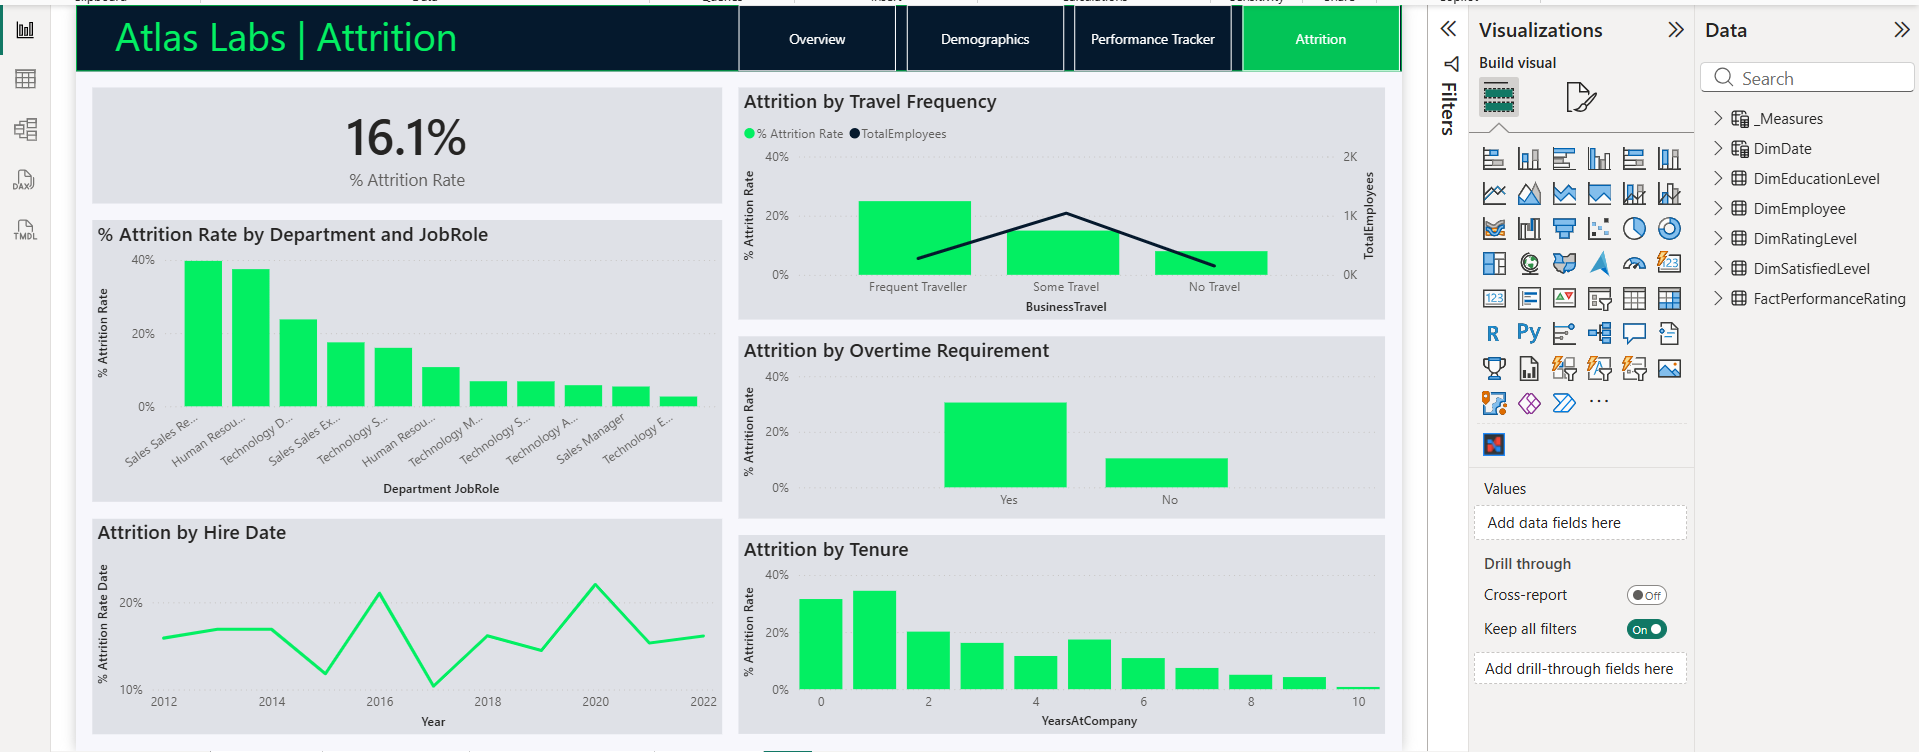

What the dashboard file says about the page in this screenshot:
{"tool":"powerbi","page":{"name":"Attrition","canvas":[1280,720],"ordinal":3},"visuals":[{"type":"card","fields":{"Values":["_Measures.% Attrition Rate"]},"box":[16,80,608,112],"z":0},{"type":"columnChart","fields":{"Category":["DimEmployee.Department","DimEmployee.JobRole"],"Y":["_Measures.% Attrition Rate"]},"box":[16,208,608,272],"z":1000},{"type":"lineChart","title":"Attrition by Hire Date","fields":{"Y":["_Measures.% Attrition Rate Date"],"Category":["DimDate.Date.Variation.Date Hierarchy.Year","DimDate.Date.Variation.Date Hierarchy.Quarter","DimDate.Date.Variation.Date Hierarchy.Month","DimDate.Date.Variation.Date Hierarchy.Day"]},"box":[16,496,608,208],"z":2000},{"type":"lineStackedColumnComboChart","title":"Attrition by Travel Frequency","fields":{"Y":["_Measures.% Attrition Rate"],"Category":["DimEmployee.BusinessTravel"],"Y2":["_Measures.TotalEmployees"]},"box":[640,80,624,224],"z":3000},{"type":"columnChart","title":"Attrition by Overtime Requirement","fields":{"Category":["DimEmployee.OverTime"],"Y":["_Measures.% Attrition Rate"]},"box":[640,320,624,176],"z":4000},{"type":"columnChart","title":"Attrition by Tenure","fields":{"Category":["DimEmployee.YearsAtCompany"],"Y":["_Measures.% Attrition Rate"]},"box":[640,512,624,192],"z":5000},{"type":"shape","box":[0,0,1280,64],"z":6000},{"type":"textbox","box":[32,0,624,64],"z":7000},{"type":"pageNavigator","box":[640,0,640,64],"z":8000}]}

Visuals, with their boxes on the page's 1280x720 design canvas (x1, y1, x2, y2). These are canvas units, not pixel positions in the 1919x752 screenshot, which may show the page scaled, cropped or inside an application window:
card - _Measures.% Attrition Rate: bbox=(16, 80, 624, 192)
columnChart - DimEmployee.Department x DimEmployee.JobRole: bbox=(16, 208, 624, 480)
"Attrition by Hire Date" lineChart: bbox=(16, 496, 624, 704)
"Attrition by Travel Frequency" lineStackedColumnComboChart: bbox=(640, 80, 1264, 304)
"Attrition by Overtime Requirement" columnChart: bbox=(640, 320, 1264, 496)
"Attrition by Tenure" columnChart: bbox=(640, 512, 1264, 704)
shape: bbox=(0, 0, 1280, 64)
textbox: bbox=(32, 0, 656, 64)
pageNavigator: bbox=(640, 0, 1280, 64)
